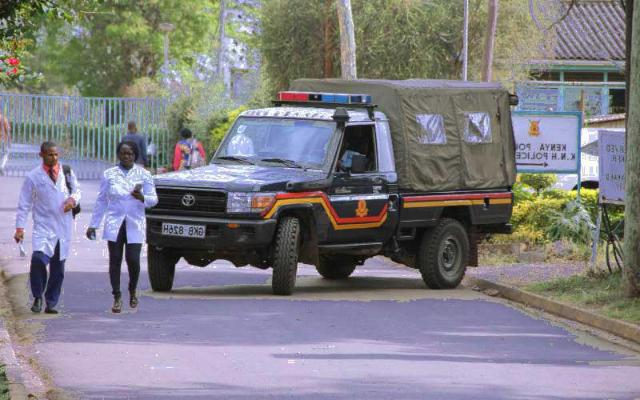police_car: (150, 77, 520, 291)
